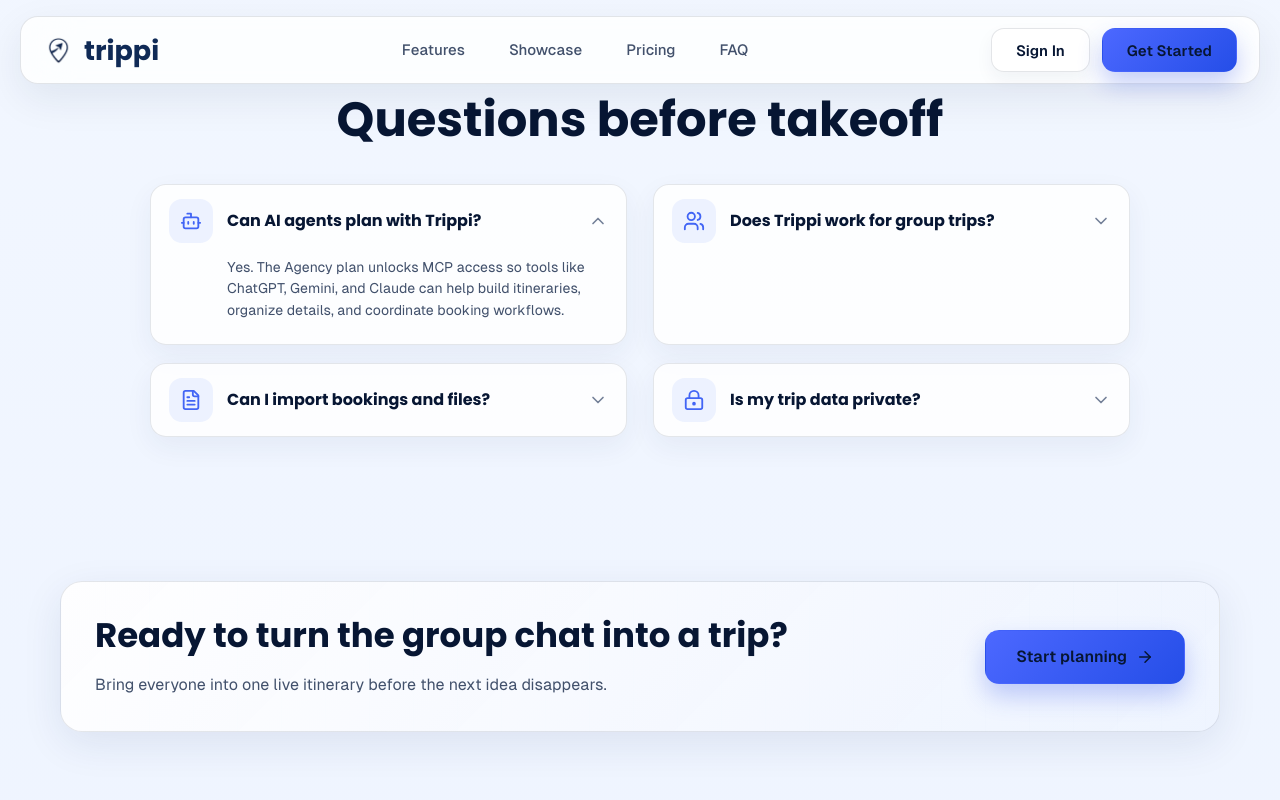
Test case: LandingPage › toggles FAQ answers
What coordinates should you click on to do the following:
click the button "Is my trip data private?"
I would click on:
 (892, 400)
Its box is [654,364,1129,436].
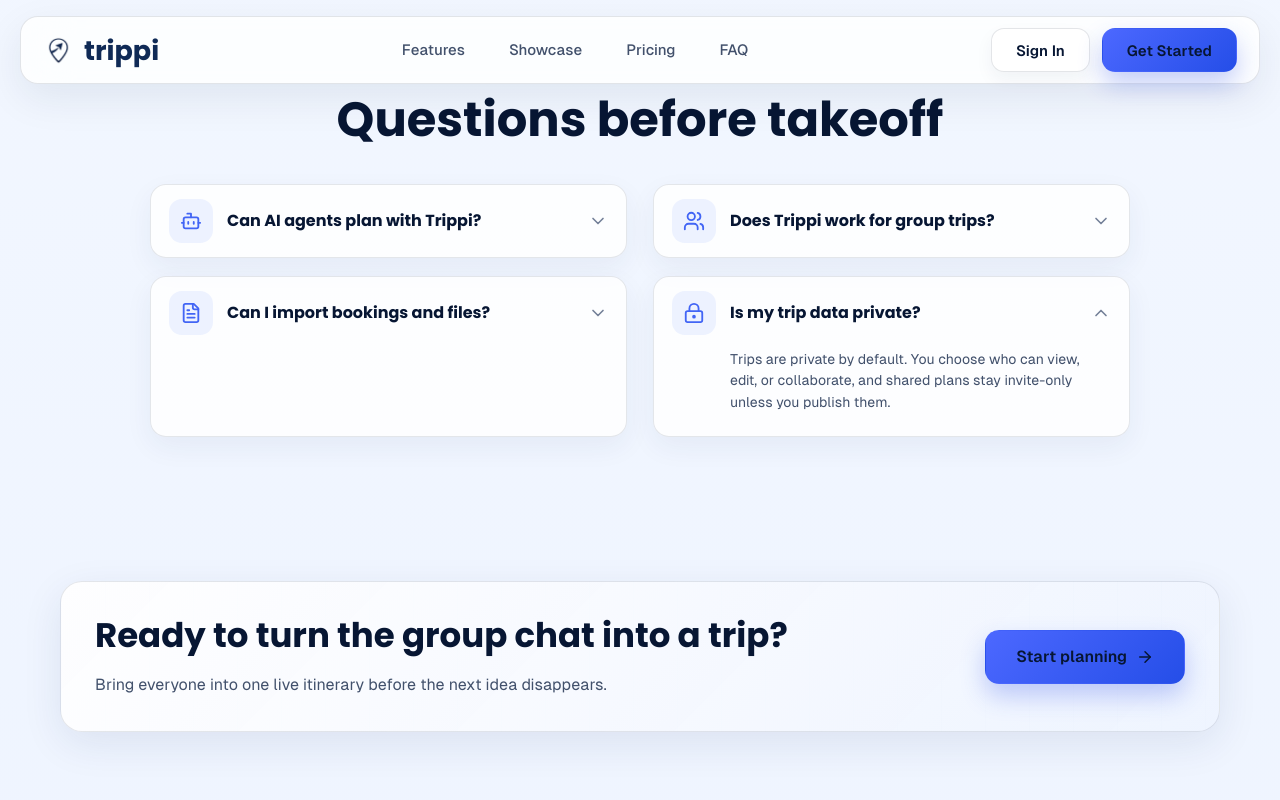
Check: the text "Trips are private by default" is shown, box [730,351,1080,410]
